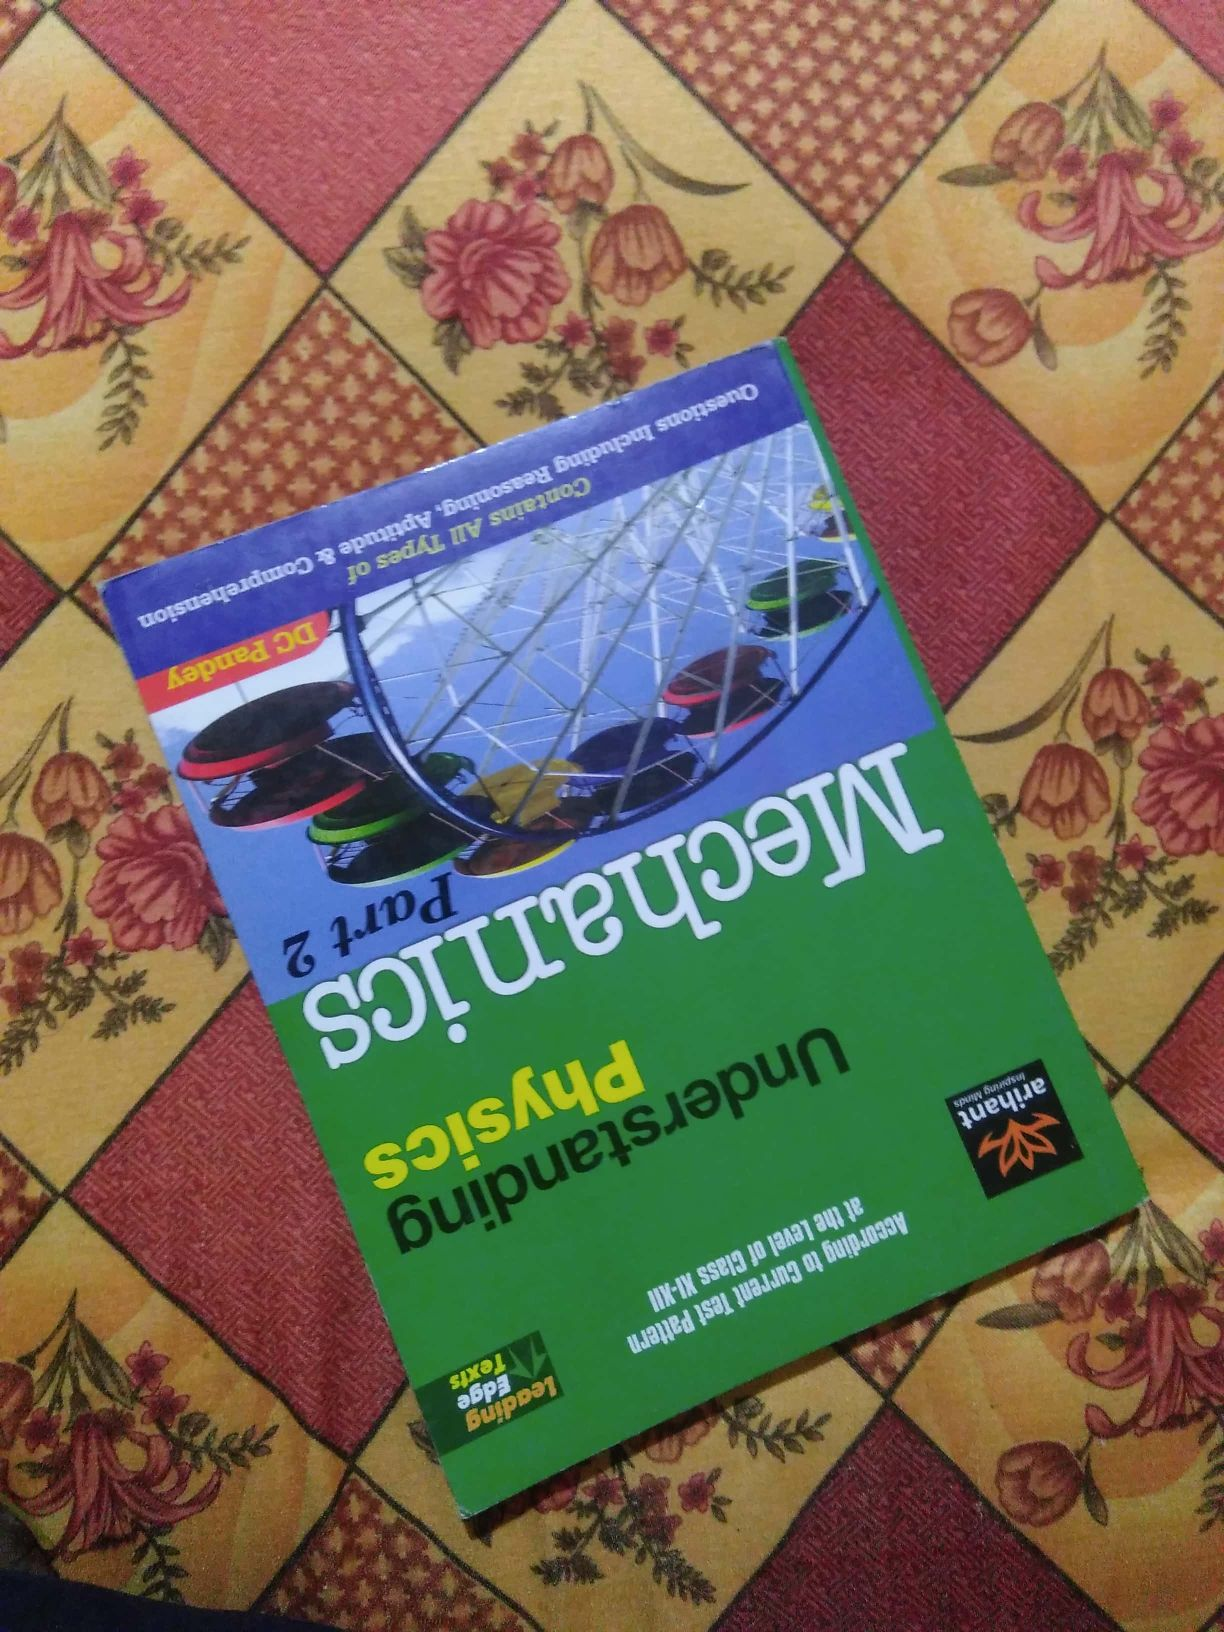mechanics: (73, 377, 1144, 1444)
